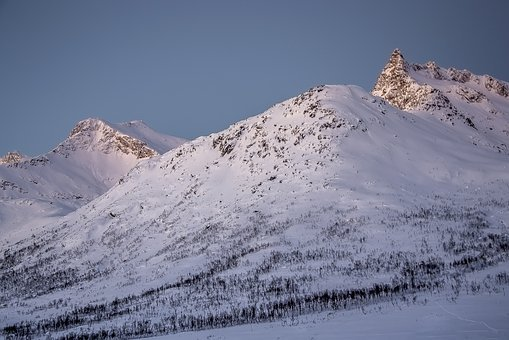mountain: (28, 58, 509, 336)
